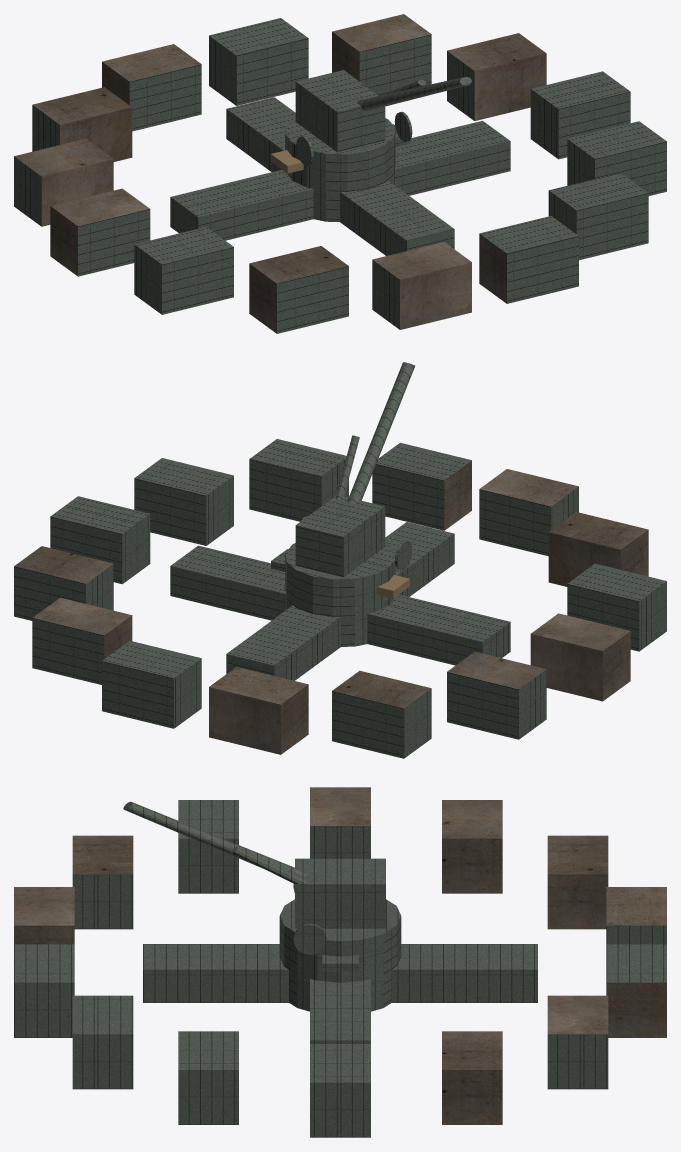
The model's file is damaged2.gltf.
The picture shows the model from 3 angles, top to bottom: view 1: azimuth 30°, elevation 25°; view 2: azimuth 150°, elevation 25°; view 3: azimuth 270°, elevation 25°; orthographic projection. The views are drawn at different scales.
Visible parts, largest first — view 1: britainaa_damaged2; view 2: britainaa_damaged2; view 3: britainaa_damaged2.
Part boxes in pixels (x1,y1,x2,y2): britainaa_damaged2: [14, 14, 666, 333]; britainaa_damaged2: [14, 362, 666, 758]; britainaa_damaged2: [14, 787, 666, 1137].
Bounding box in the file's own units: 23 × 7.35 × 21.5.
Materials: 4 (3 with a texture image).
